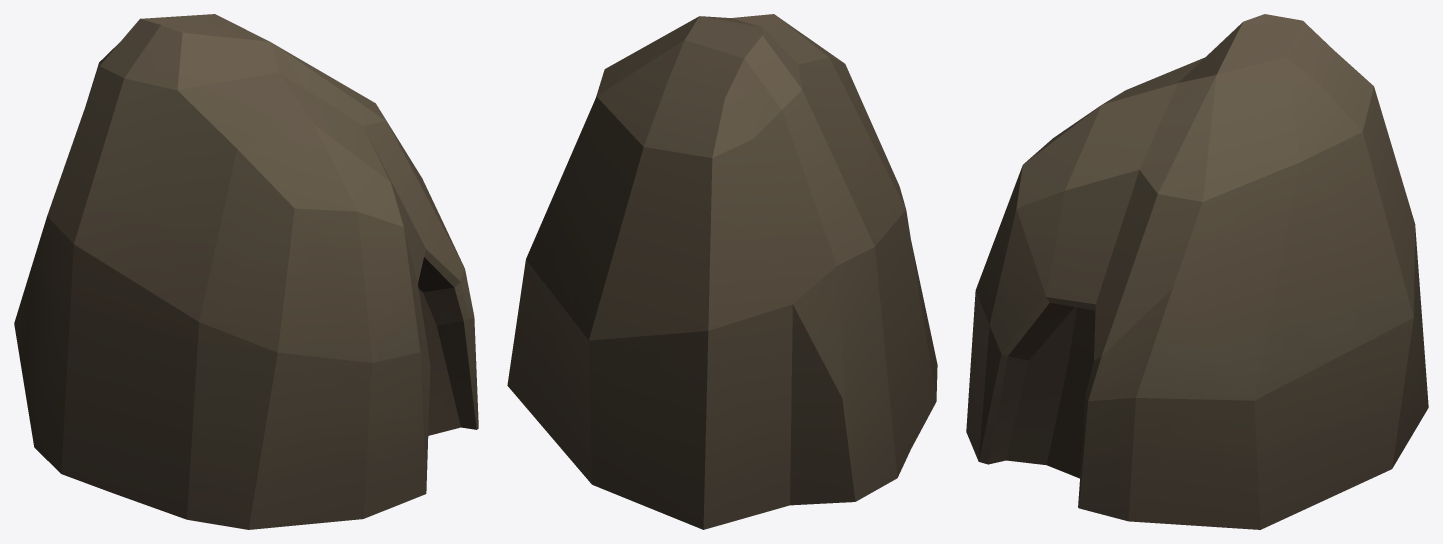
File: Rock_Cave_Entry_B.fbx
3 renders of one model, left to right at view 1: azimuth 30°, elevation 25°; view 2: azimuth 150°, elevation 25°; view 3: azimuth 270°, elevation 25°, orthographic. The views are drawn at different scales.
Parts seen in each view (by area): view 1: Rock_Cave_Entry_B; view 2: Rock_Cave_Entry_B; view 3: Rock_Cave_Entry_B.
Part boxes in pixels (box(x1,y1,x2,y2)): Rock_Cave_Entry_B: box(14, 14, 478, 529); Rock_Cave_Entry_B: box(507, 14, 937, 529); Rock_Cave_Entry_B: box(966, 14, 1428, 529).
Size of the model in its own units: 432 by 481 by 467.
1 material, 1 textured.
